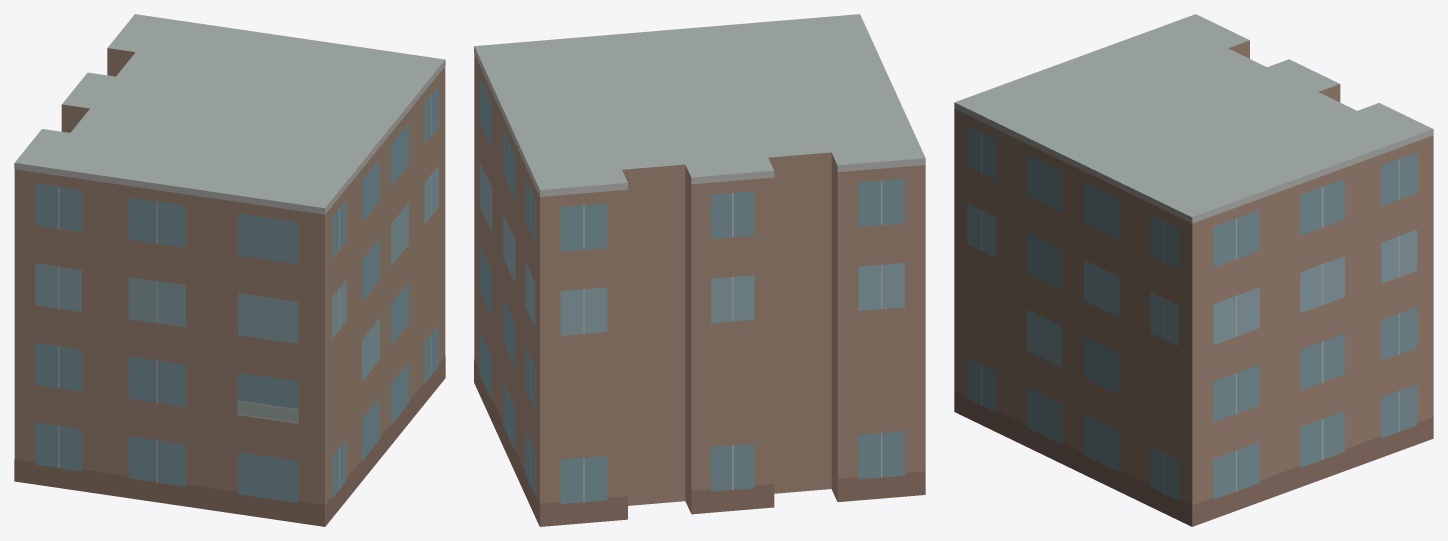
Rendered from survey-upis-32624891.glb.
The picture shows the model from 3 angles, left to right: view 1: azimuth 30°, elevation 25°; view 2: azimuth 150°, elevation 25°; view 3: azimuth 270°, elevation 25°; orthographic projection. The views are drawn at different scales.
Parts seen in each view (by area): view 1: survey-upis-32624891.tmp; view 2: survey-upis-32624891.tmp; view 3: survey-upis-32624891.tmp.
Boxes of the visible parts, x1,y1,x2,y2 form: survey-upis-32624891.tmp: (14,14,445,526); survey-upis-32624891.tmp: (474,14,925,526); survey-upis-32624891.tmp: (954,14,1433,526).
Bounding box in the file's own units: 17.06 × 12.1 × 16.99.
